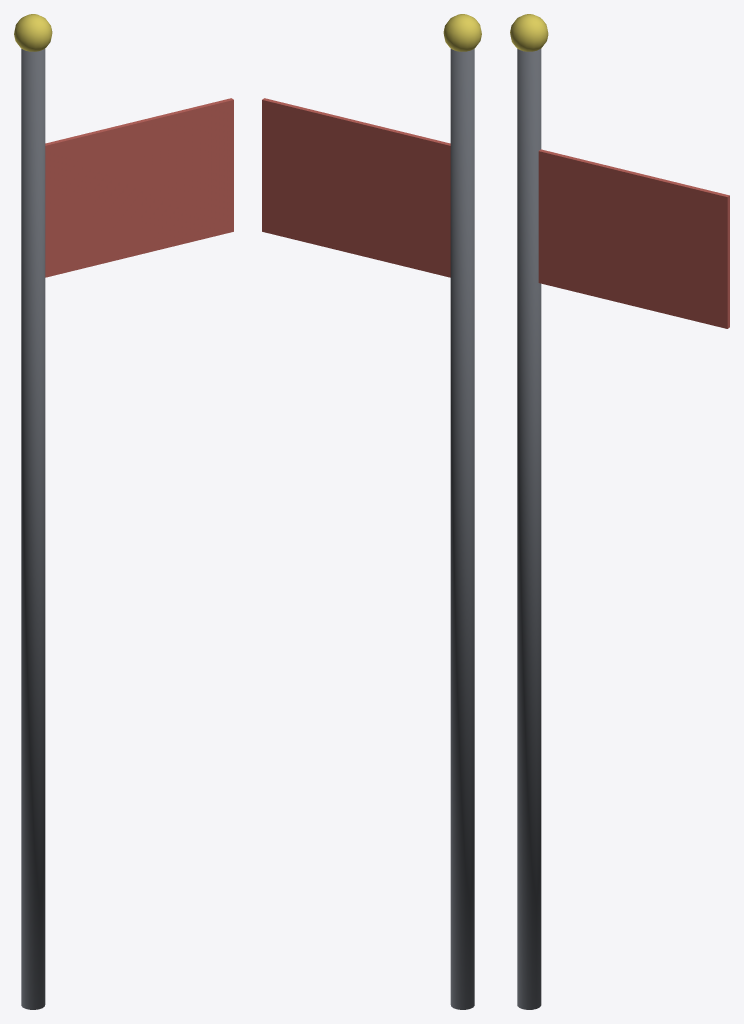
Rendered from prop_tate_poleflag_red.glb.
3 views of the same model, side by side, from view 1: azimuth 30°, elevation 25°; view 2: azimuth 150°, elevation 25°; view 3: azimuth 330°, elevation 25° (orthographic).
Parts seen in each view (by area): view 1: tate_poleflag_red; view 2: tate_poleflag_red; view 3: tate_poleflag_red.
Boxes of the visible parts, x1,y1,x2,y2 form: tate_poleflag_red: (14,14,233,1009); tate_poleflag_red: (262,14,481,1009); tate_poleflag_red: (510,14,729,1009).
Size of the model in its own units: 1.03 by 4.5 by 0.16.
